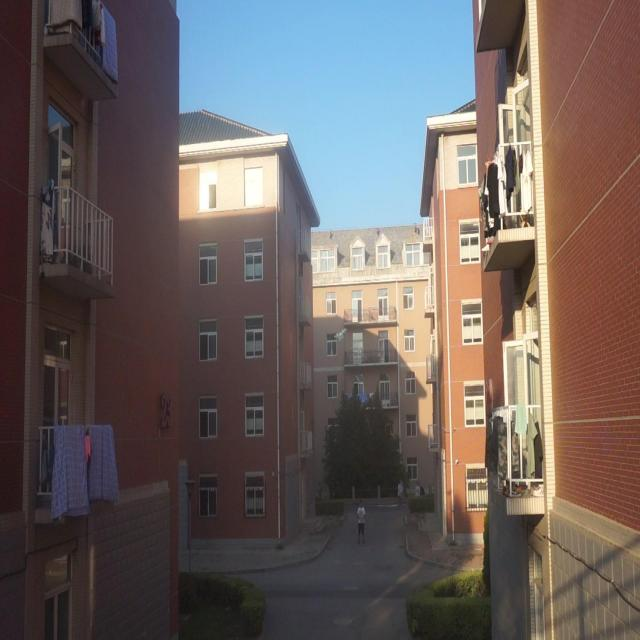UAV: (333, 328, 348, 341)
